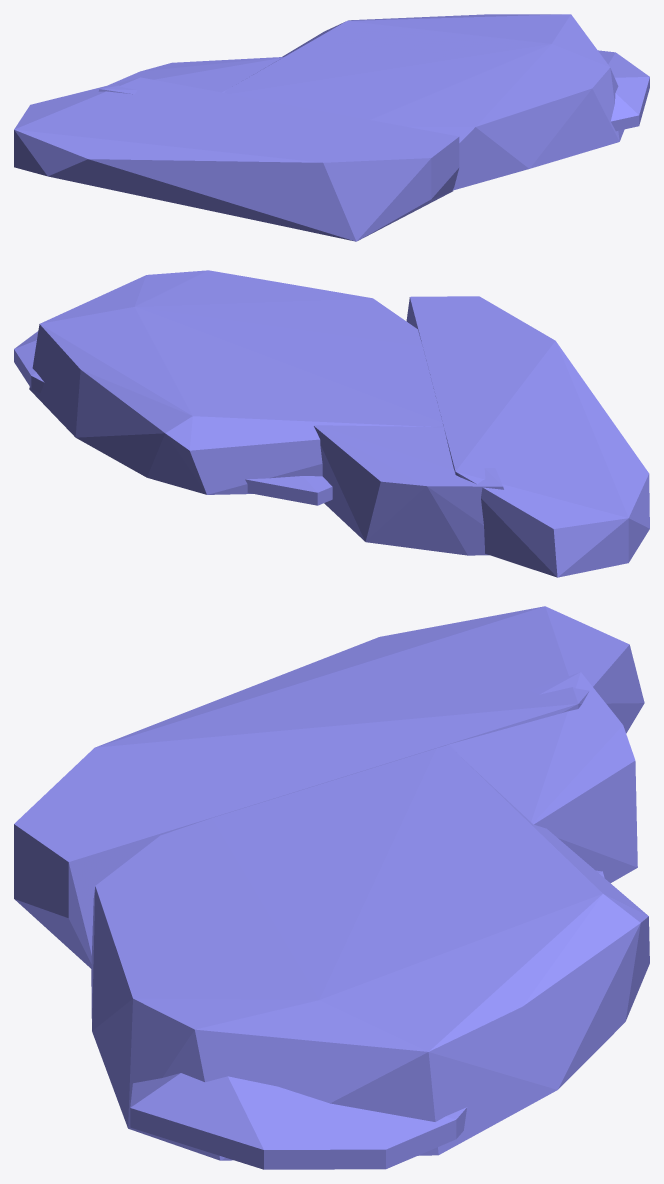
File: Plate_11_Collider_01.FBX
3 renders of one model, top to bottom at view 1: azimuth 30°, elevation 25°; view 2: azimuth 150°, elevation 25°; view 3: azimuth 270°, elevation 25°, orthographic. The views are drawn at different scales.
Parts seen in each view (by area): view 1: COLLIDER1, COLLIDER2, COLLIDER3, COLLIDER4; view 2: COLLIDER2, COLLIDER1, COLLIDER3, COLLIDER4; view 3: COLLIDER2, COLLIDER1, COLLIDER4, COLLIDER3.
Boxes of the visible parts, x1,y1,x2,y2 form: COLLIDER1: (14, 77, 459, 241); COLLIDER2: (224, 14, 624, 190); COLLIDER3: (98, 57, 283, 94); COLLIDER4: (598, 50, 649, 131); COLLIDER2: (29, 270, 443, 494); COLLIDER1: (406, 296, 649, 577); COLLIDER3: (314, 425, 503, 555); COLLIDER4: (14, 331, 332, 505); COLLIDER2: (91, 746, 649, 1160); COLLIDER1: (14, 606, 644, 968); COLLIDER4: (130, 870, 604, 1169); COLLIDER3: (445, 672, 637, 883).
Size of the model in its own units: 368 by 45.1 by 200.
